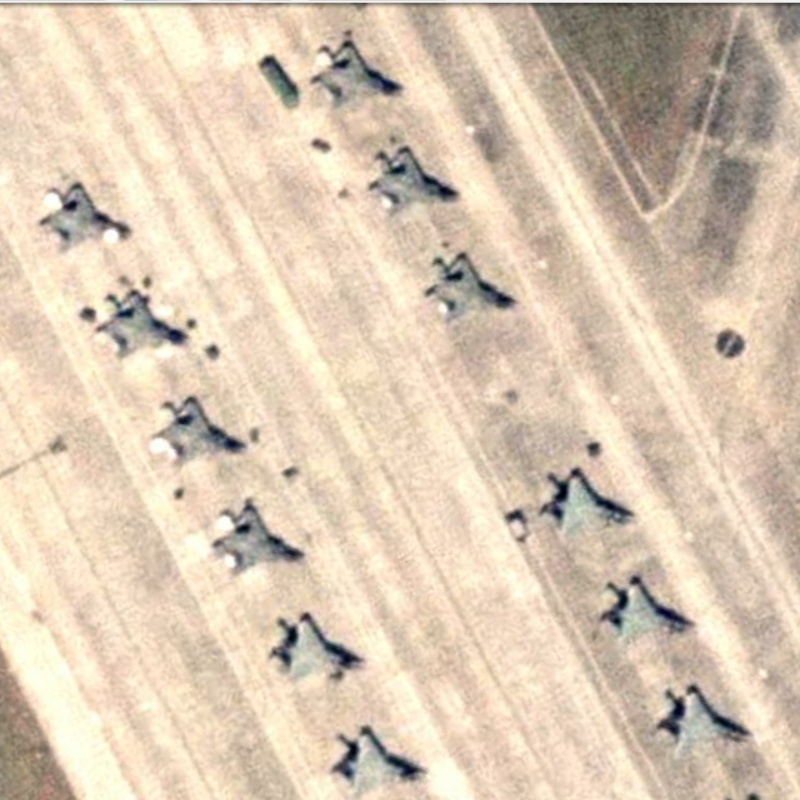A13: (256, 608, 374, 686), (654, 680, 756, 766), (324, 720, 433, 800), (530, 466, 643, 543), (593, 574, 699, 654)
A15: (132, 390, 253, 477), (300, 35, 412, 119), (204, 498, 311, 585), (32, 179, 141, 263), (80, 287, 197, 365), (360, 142, 465, 223), (421, 249, 520, 328)
